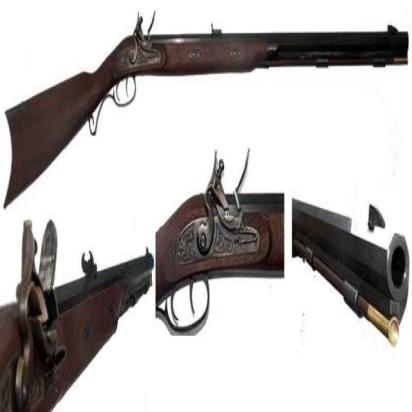Gun: (1, 16, 410, 217), (0, 147, 156, 411), (156, 145, 284, 340), (292, 189, 411, 349)
